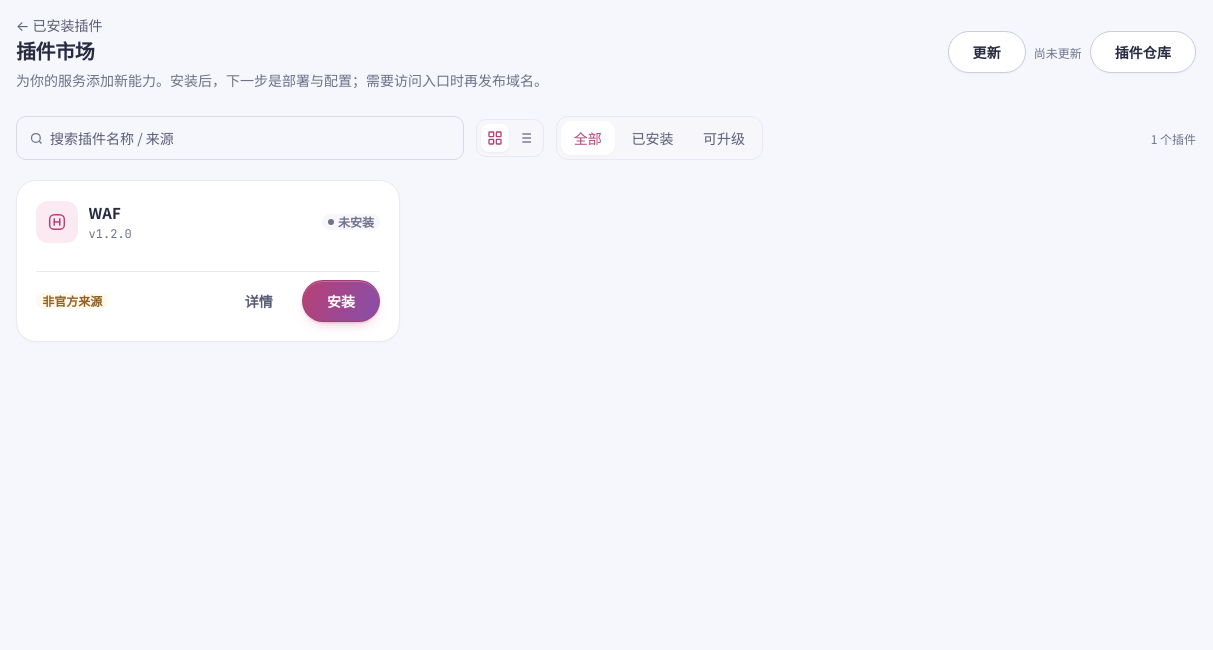
PluginMarketplacePage › opens an in-page repository modal instead of navigating to the repositories page
Click the button with test id "marketplace-repositories": {"x": 1143, "y": 52} [1090, 31, 1196, 73]
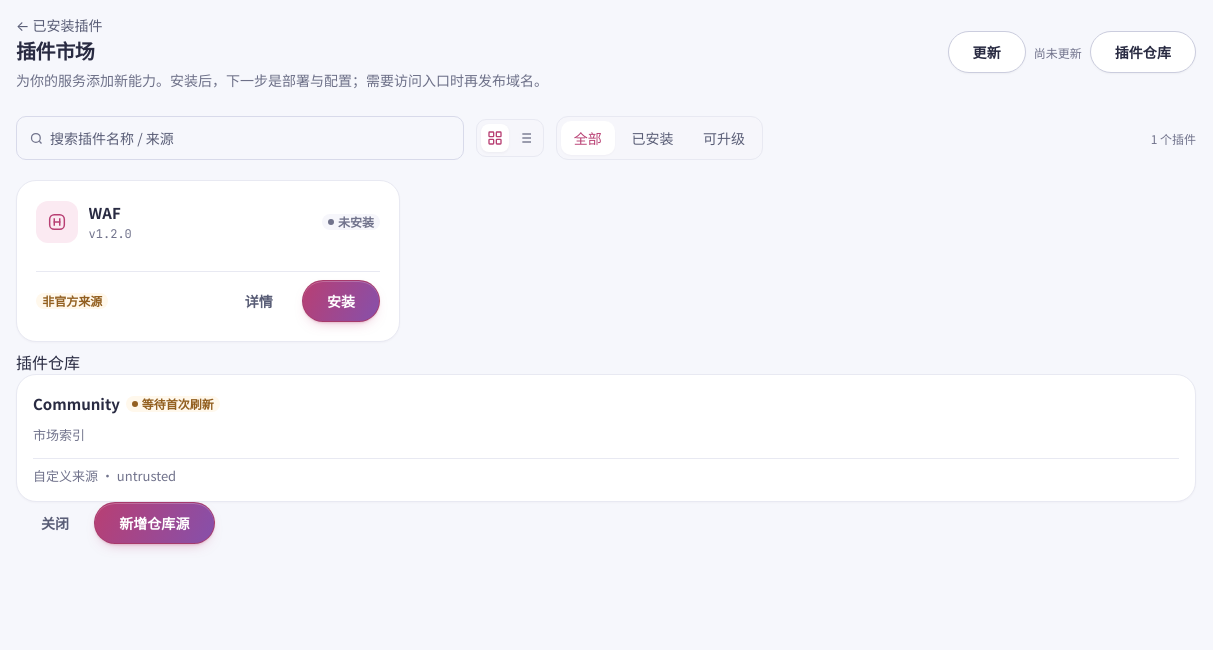
Check: the element with test id "plugin-repositories-modal" that starts with "插件仓库" is shown, box [16, 350, 1196, 544]
Check: the text with class "modal-title" reads "插件仓库", box [16, 350, 80, 374]
Check: the text "Community" is shown, box [33, 393, 120, 414]
Click the element with class "repository-card": {"x": 606, "y": 438} [16, 374, 1196, 502]
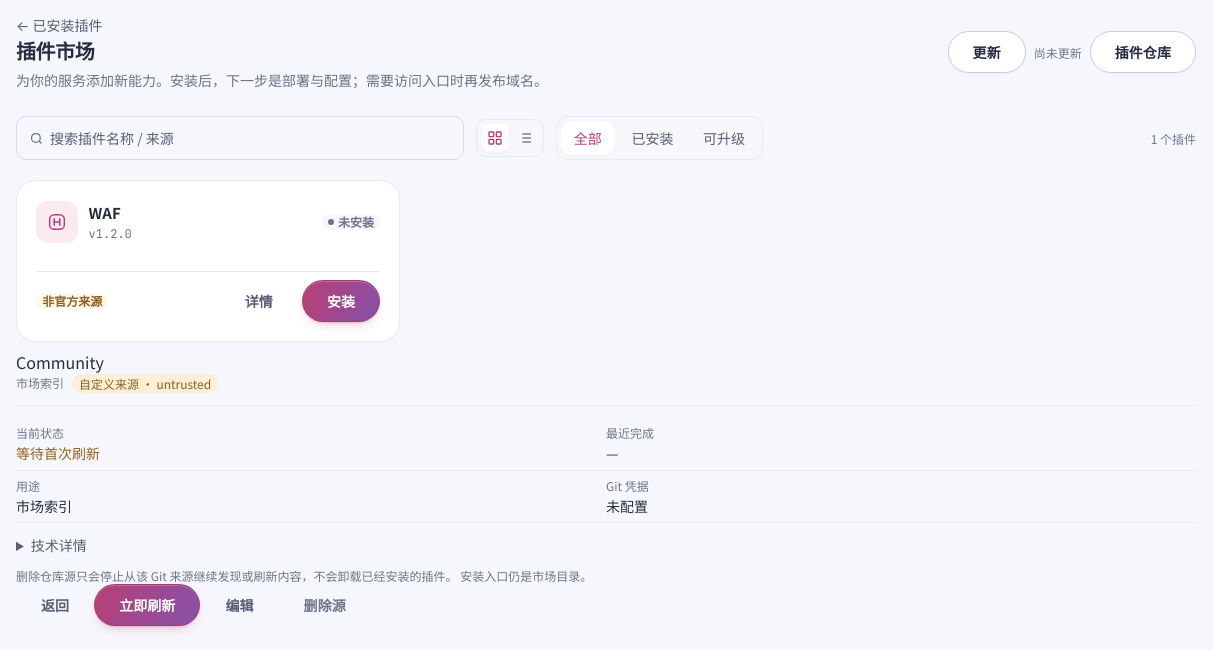
Check: the element with test id "repository-source-inspect" is shown, box [16, 374, 1196, 584]
